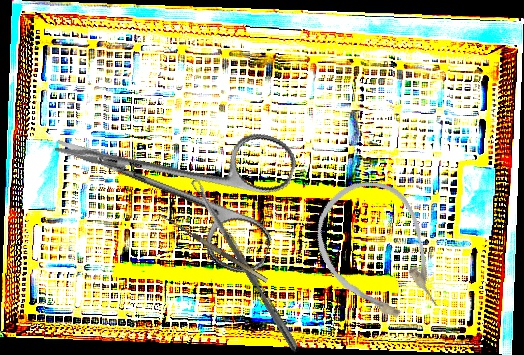Cannula: (297, 164, 461, 344)
Hook Surgical: (153, 210, 269, 290)
Iris Scissors: (35, 73, 303, 280)
Surgical Spoon: (190, 177, 302, 354)
